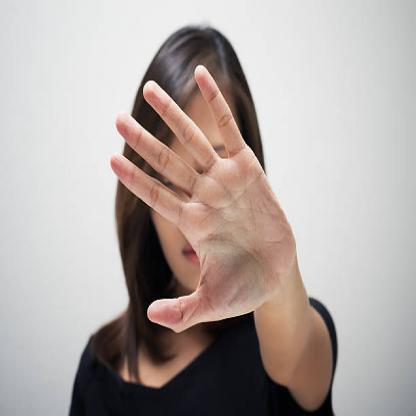stop: (109, 63, 297, 336)
